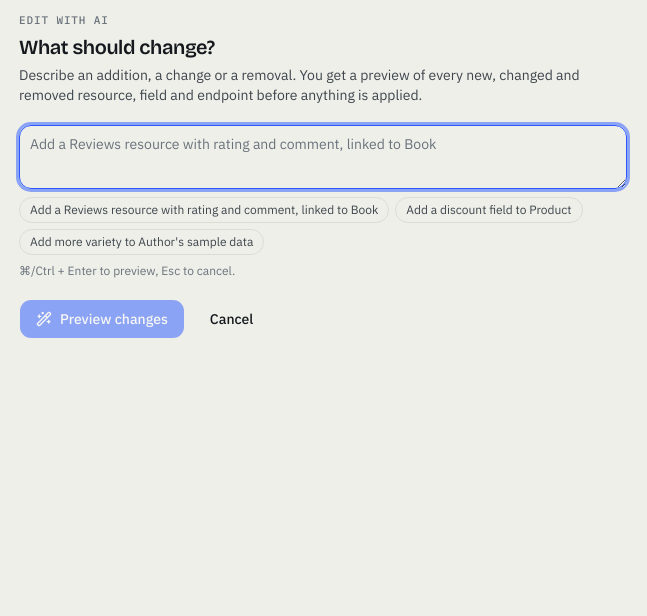
Test: previews a changed resource's records with 'Replaces', not 'Starts with'
In the text box named "Describe what should change": (323, 156) [19, 124, 627, 188], type "Change Book's sample data"
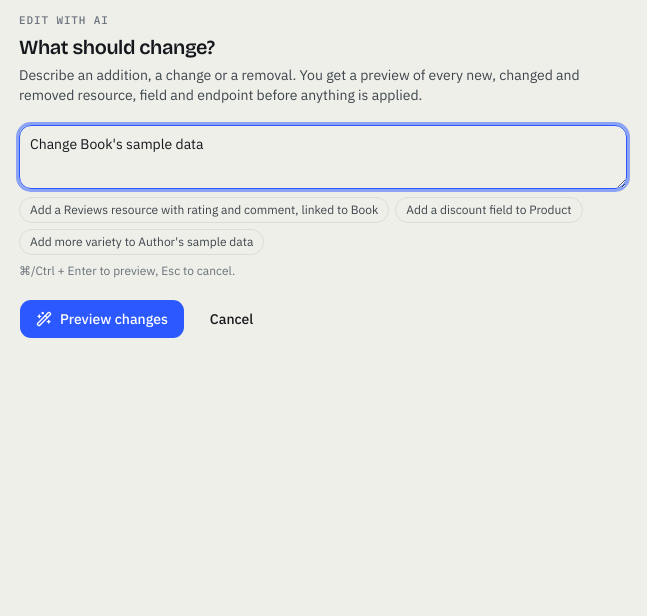
Click the button "Preview changes": (102, 318) [19, 298, 185, 338]
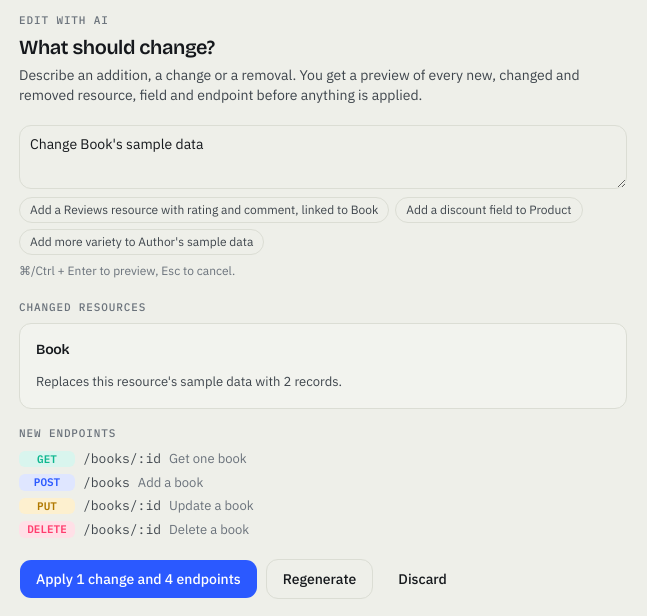
Now the text "Changed resources" is shown, box [19, 300, 146, 314]
Now the text "Replaces this resource's sample data with 2 records." is shown, box [36, 373, 342, 390]
